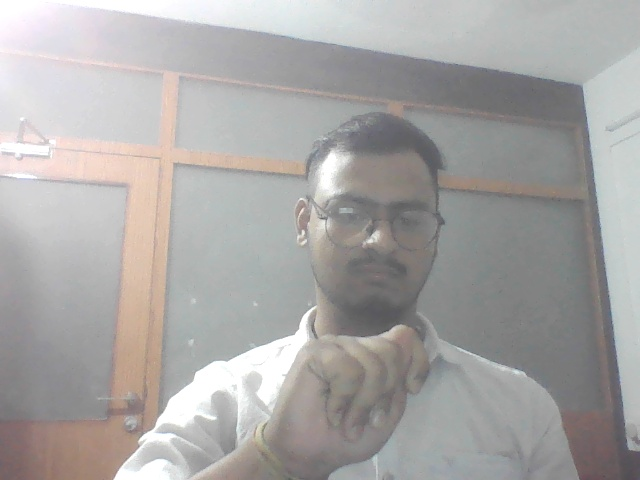Toilet: (272, 316, 443, 470)
